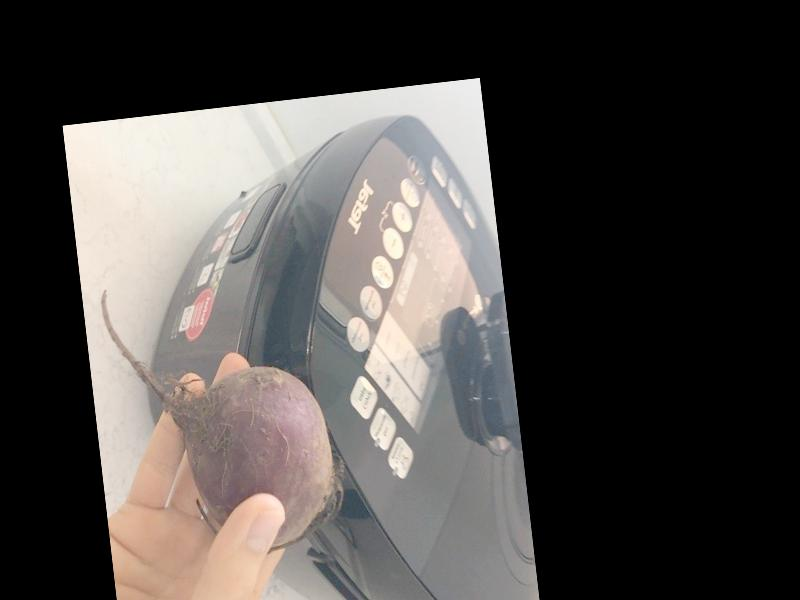Beet: (101, 266, 350, 566)
